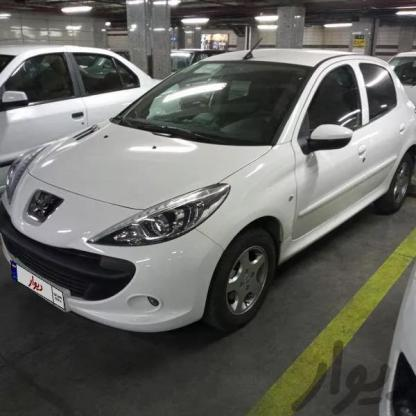Car: (0, 44, 416, 341), (0, 18, 153, 186)
